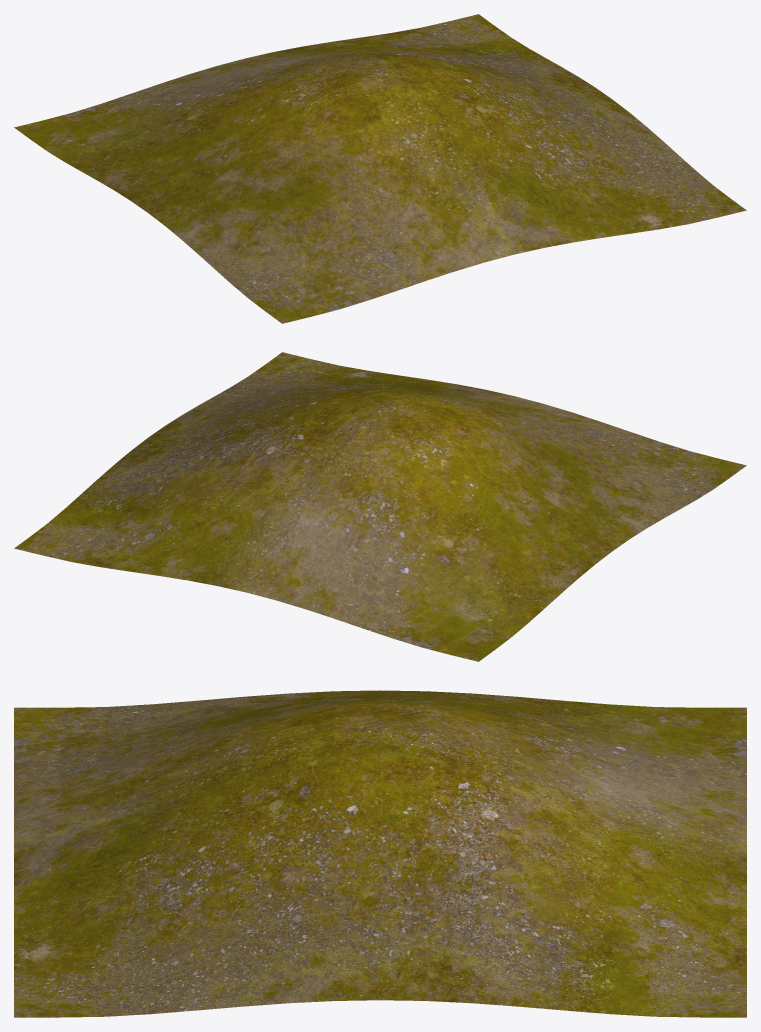
The model's file is terrain.glb.
3 views of the same model, one above another, from view 1: azimuth 30°, elevation 25°; view 2: azimuth 150°, elevation 25°; view 3: azimuth 270°, elevation 25° (orthographic). The views are drawn at different scales.
Visible parts, largest first — view 1: 平面; view 2: 平面; view 3: 平面.
Part boxes in pixels (x1,y1,x2,y2): 平面: (14, 14, 746, 323); 平面: (14, 352, 746, 661); 平面: (14, 690, 746, 1017).
Size of the model in its own units: 12.58 by 2.53 by 12.58.
Materials: 1 (1 with a texture image).
